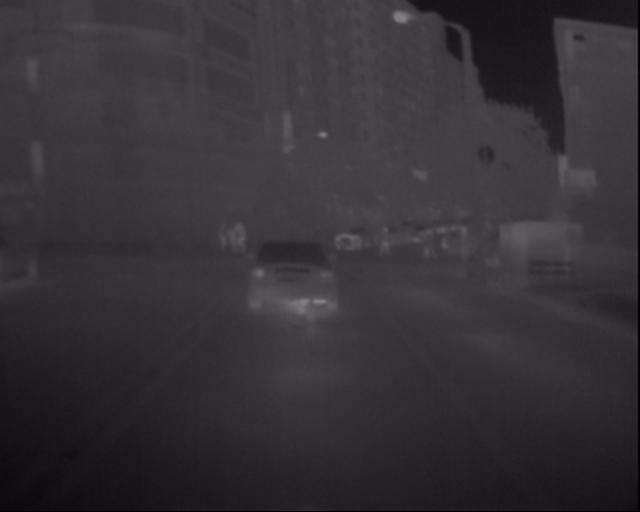person: (212, 217, 256, 259), (375, 222, 398, 262), (418, 227, 441, 264)
